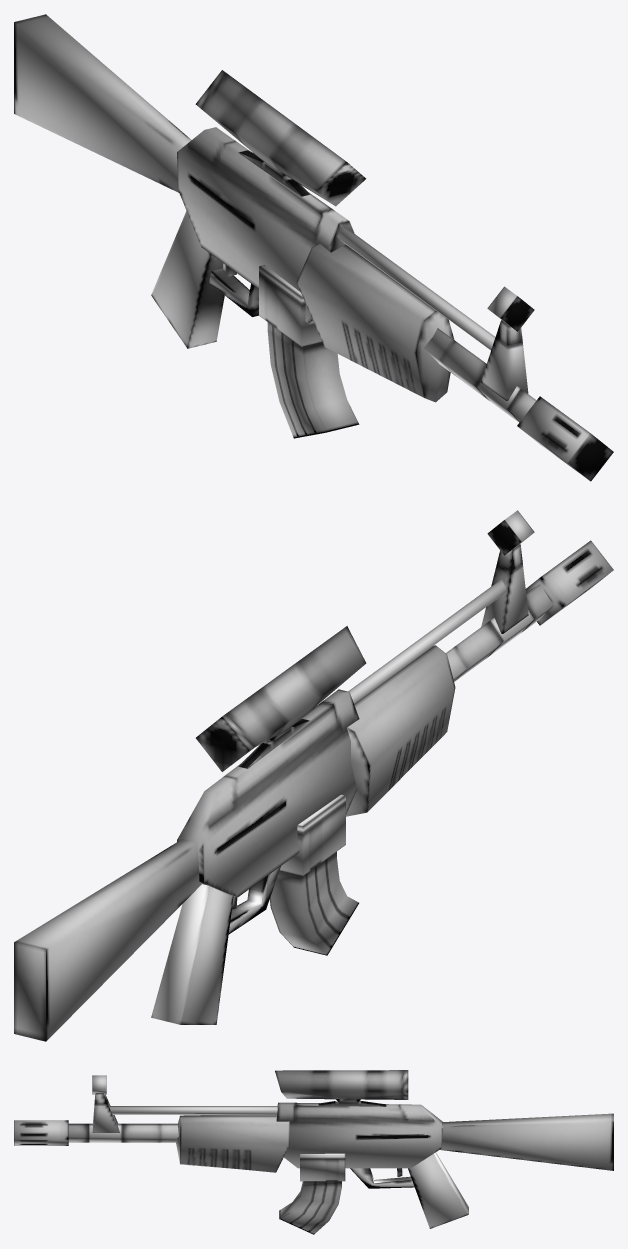
Rendered from Gun01 FBX Low Free.fbx.
3 renders of one model, top to bottom at view 1: azimuth 30°, elevation 25°; view 2: azimuth 150°, elevation 25°; view 3: azimuth 270°, elevation 25°, orthographic. The views are drawn at different scales.
Visible parts, largest first — view 1: Lo_Buttstock, Lo_Body, Lo_ForeStock, Lo_Clip2_Bent, Lo_Scope, Lo_Grip, Lo_Muzzle, Lo_Barrel, Lo_Acc1, Lo_Targeter_Base, Lo_FingerGuard, Lo_Targeter_Sight; view 2: Lo_Body, Lo_Buttstock, Lo_ForeStock, Lo_Scope, Lo_Clip2_Bent, Lo_Grip, Lo_Muzzle, Lo_Barrel, Lo_Acc1, Lo_Targeter_Base, Lo_FingerGuard, Lo_Targeter_Sight; view 3: Lo_Body, Lo_Buttstock, Lo_ForeStock, Lo_Scope, Lo_Clip2_Bent, Lo_Grip, Lo_Barrel, Lo_Acc1, Lo_Muzzle, Lo_Targeter_Base, Lo_FingerGuard, Lo_Targeter_Sight.
Part boxes in pixels (left/top/right/bottom): Lo_Buttstock: left=14, top=14, right=191, bottom=192; Lo_Body: left=177, top=127, right=354, bottom=324; Lo_ForeStock: left=296, top=243, right=454, bottom=402; Lo_Clip2_Bent: left=259, top=265, right=359, bottom=438; Lo_Scope: left=195, top=70, right=366, bottom=206; Lo_Grip: left=151, top=211, right=224, bottom=348; Lo_Muzzle: left=517, top=396, right=613, bottom=481; Lo_Barrel: left=423, top=328, right=536, bottom=422; Lo_Acc1: left=337, top=226, right=495, bottom=350; Lo_Targeter_Base: left=481, top=320, right=528, bottom=400; Lo_FingerGuard: left=209, top=268, right=258, bottom=316; Lo_Targeter_Sight: left=487, top=286, right=534, bottom=331; Lo_Body: left=177, top=689, right=359, bottom=897; Lo_Buttstock: left=14, top=839, right=202, bottom=1041; Lo_ForeStock: left=346, top=645, right=455, bottom=816; Lo_Scope: left=196, top=626, right=366, bottom=771; Lo_Clip2_Bent: left=270, top=794, right=358, bottom=955; Lo_Grip: left=151, top=884, right=233, bottom=1024; Lo_Muzzle: left=525, top=540, right=613, bottom=625; Lo_Barrel: left=446, top=584, right=552, bottom=681; Lo_Acc1: left=348, top=579, right=507, bottom=703; Lo_Targeter_Base: left=481, top=544, right=528, bottom=633; Lo_FingerGuard: left=228, top=866, right=280, bottom=934; Lo_Targeter_Sight: left=487, top=510, right=534, bottom=555; Lo_Body: left=276, top=1102, right=443, bottom=1168; Lo_Buttstock: left=440, top=1113, right=613, bottom=1170; Lo_ForeStock: left=176, top=1115, right=289, bottom=1172; Lo_Scope: left=275, top=1070, right=408, bottom=1106; Lo_Clip2_Bent: left=279, top=1153, right=345, bottom=1234; Lo_Grip: left=408, top=1152, right=468, bottom=1228; Lo_Barrel: left=68, top=1123, right=178, bottom=1142; Lo_Acc1: left=109, top=1106, right=277, bottom=1114; Lo_Muzzle: left=14, top=1120, right=68, bottom=1145; Lo_Targeter_Base: left=92, top=1093, right=119, bottom=1132; Lo_FingerGuard: left=350, top=1168, right=414, bottom=1188; Lo_Targeter_Sight: left=92, top=1075, right=106, bottom=1094.
Bounding box in the file's own units: 46 × 179 × 608.
